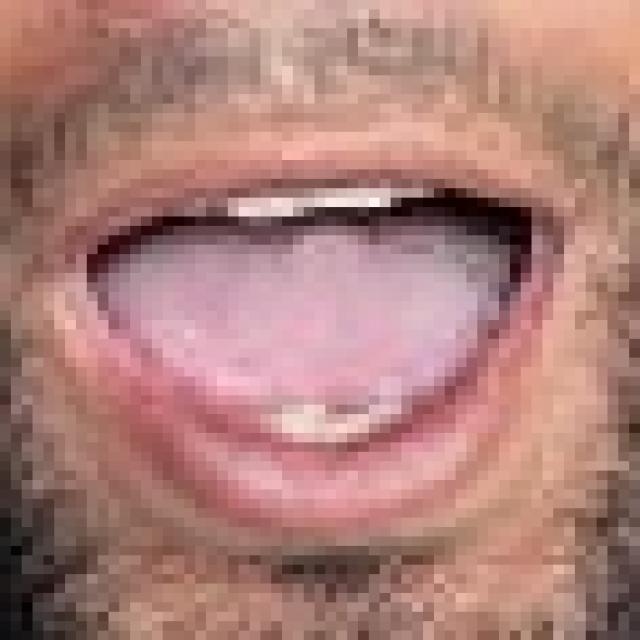open-mouth: (54, 132, 575, 536)
